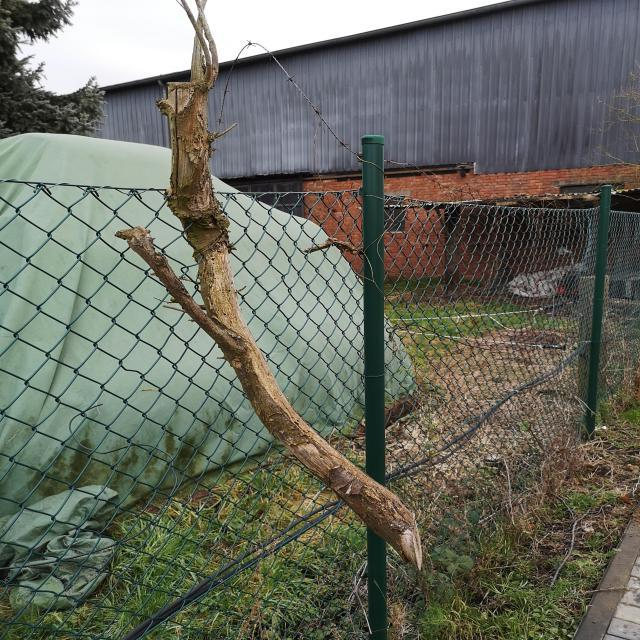fence line: (120, 41, 441, 578)
